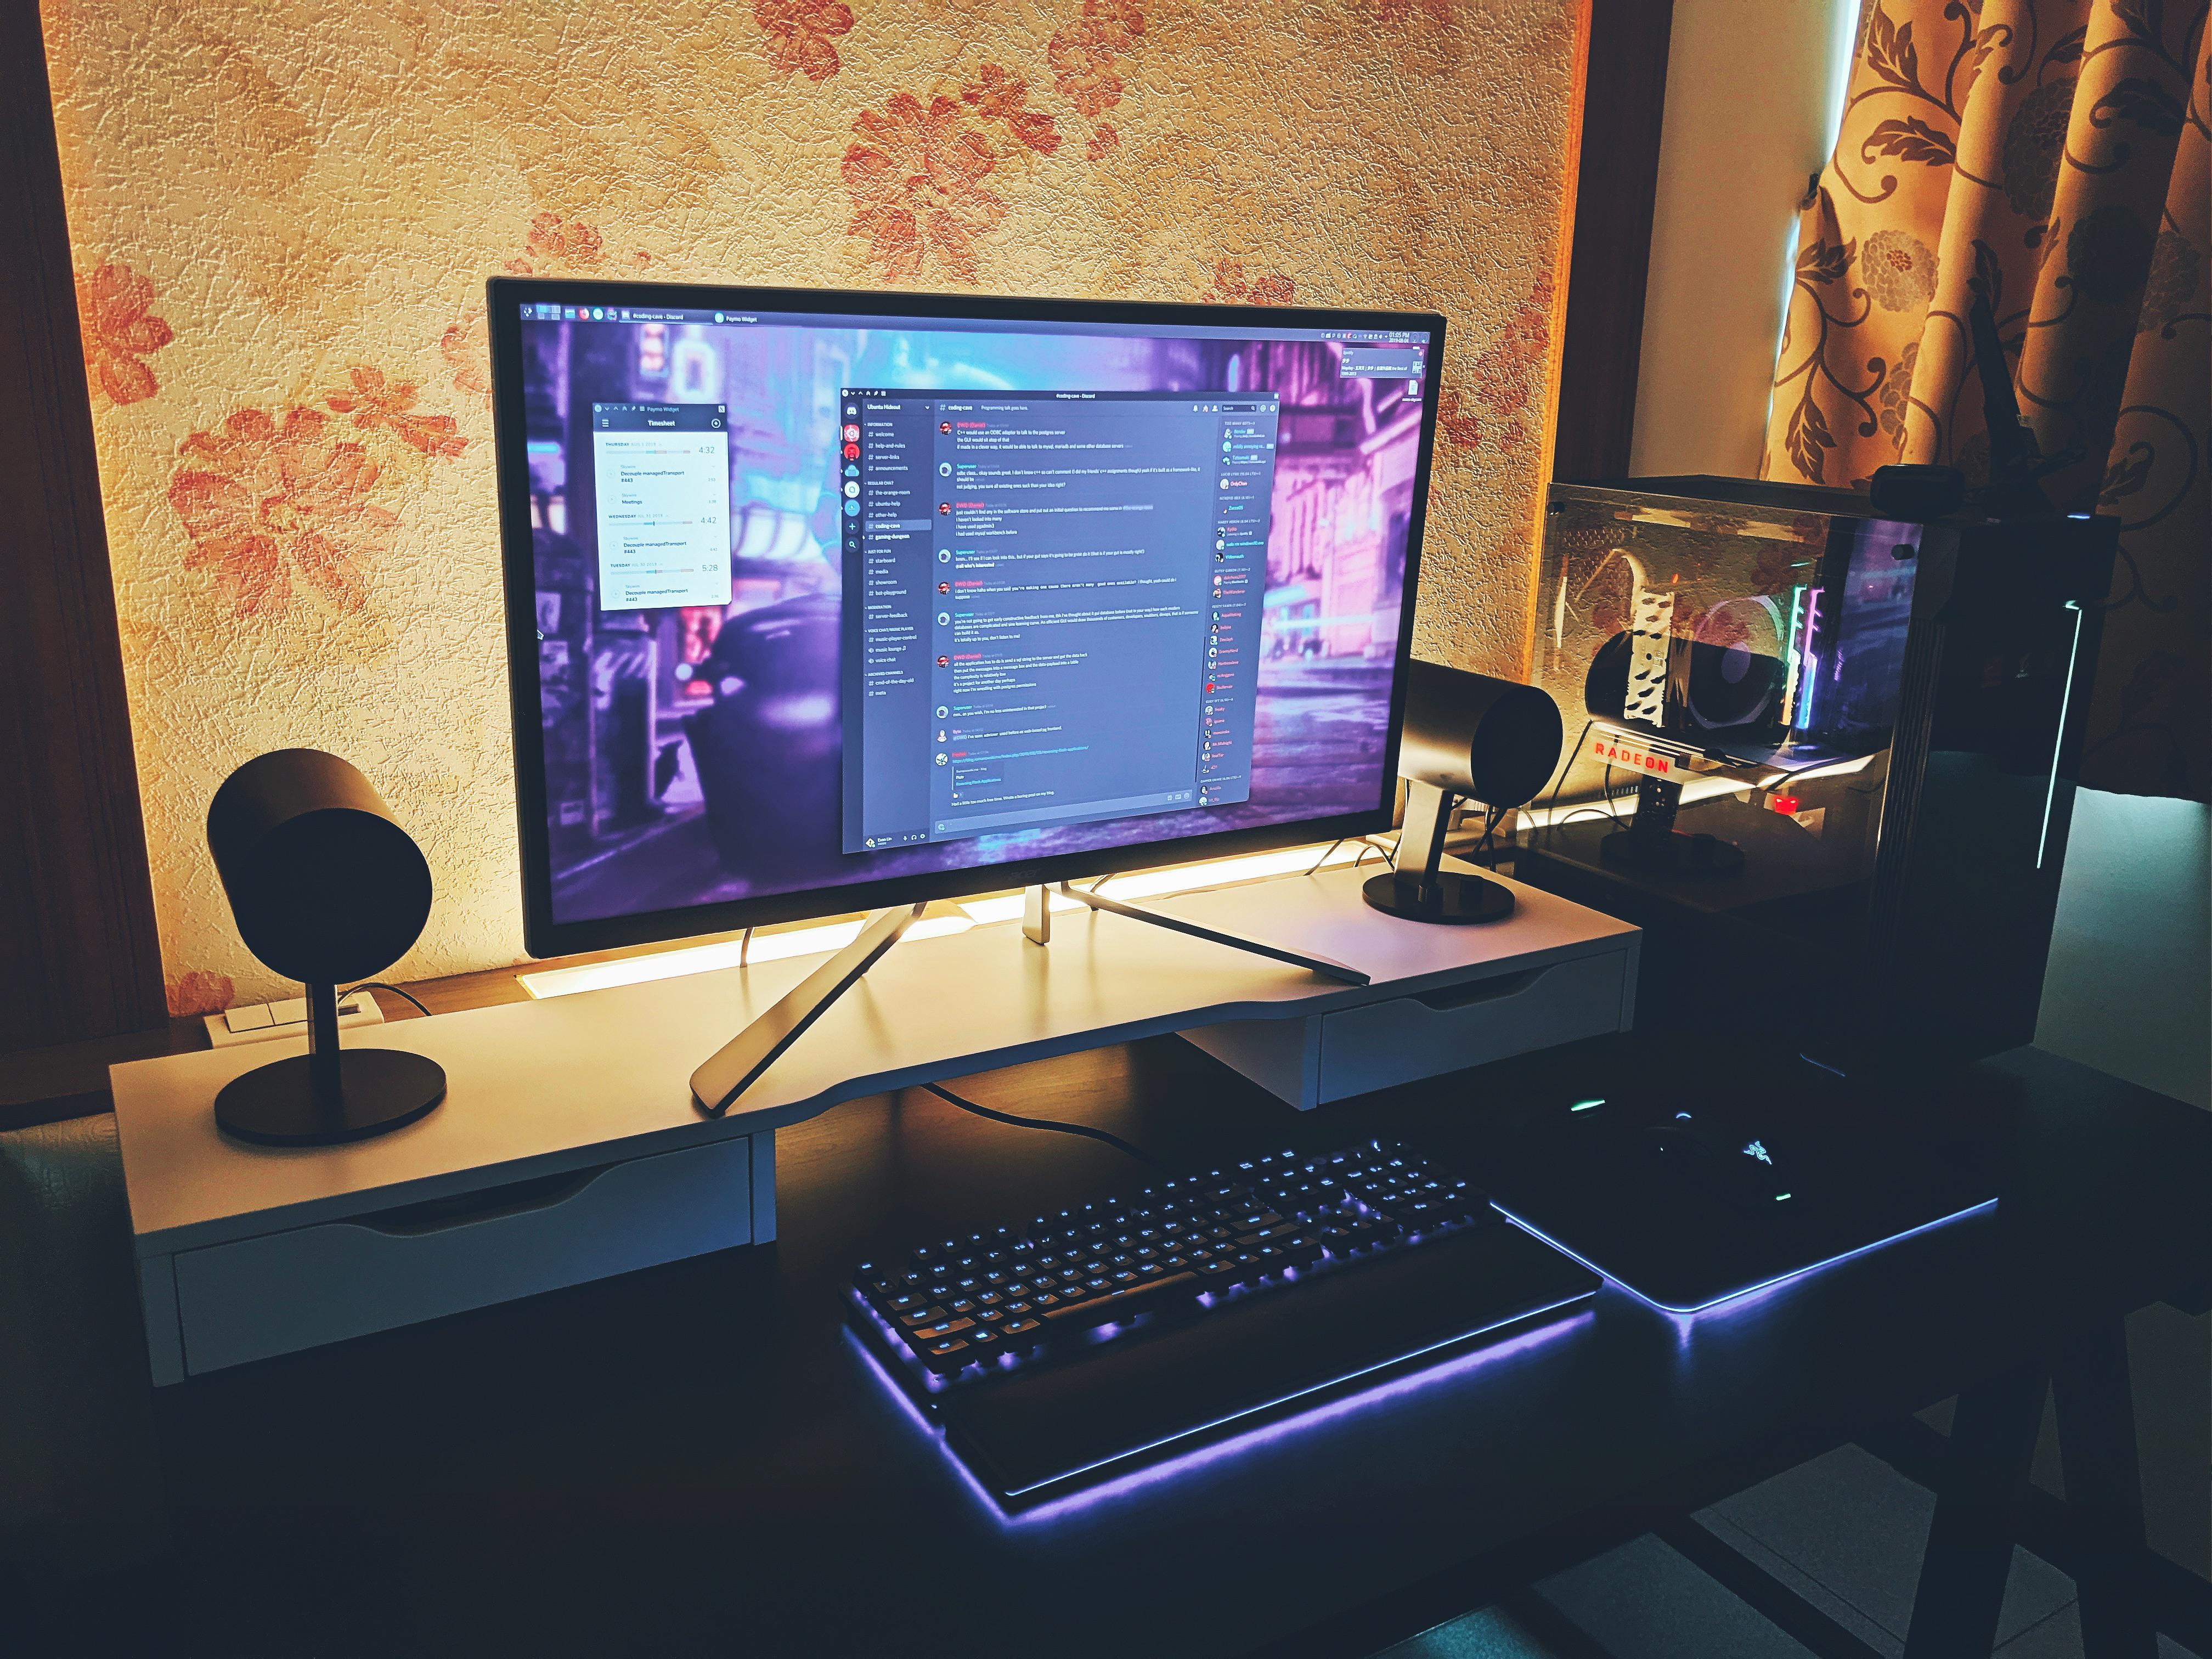Desk (Generic): (0, 809, 2212, 1659)
Desktop (Linux): (1507, 460, 2142, 1082)
External Speakers (Generic): (172, 716, 469, 1164), (1343, 633, 1608, 934)
External Webcam: (1851, 453, 1986, 528)
Keyboard (Gaming): (826, 1122, 1622, 1523)
Monitor (Landscape): (456, 260, 1454, 1108)
Mouse (Gaming): (1606, 1101, 1839, 1229)
Mousepad (Gaming): (1467, 1086, 2012, 1326)
